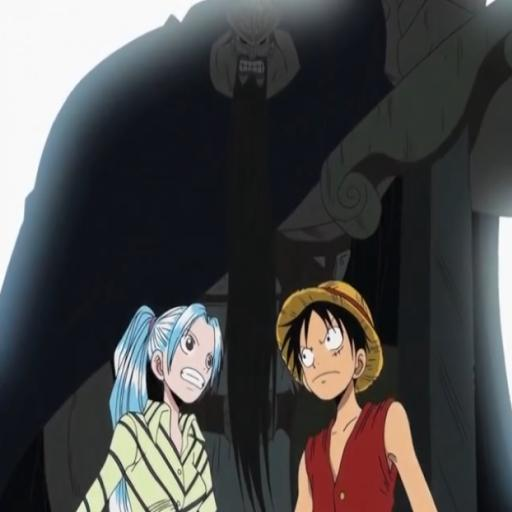Luffy: (263, 275, 461, 512)
